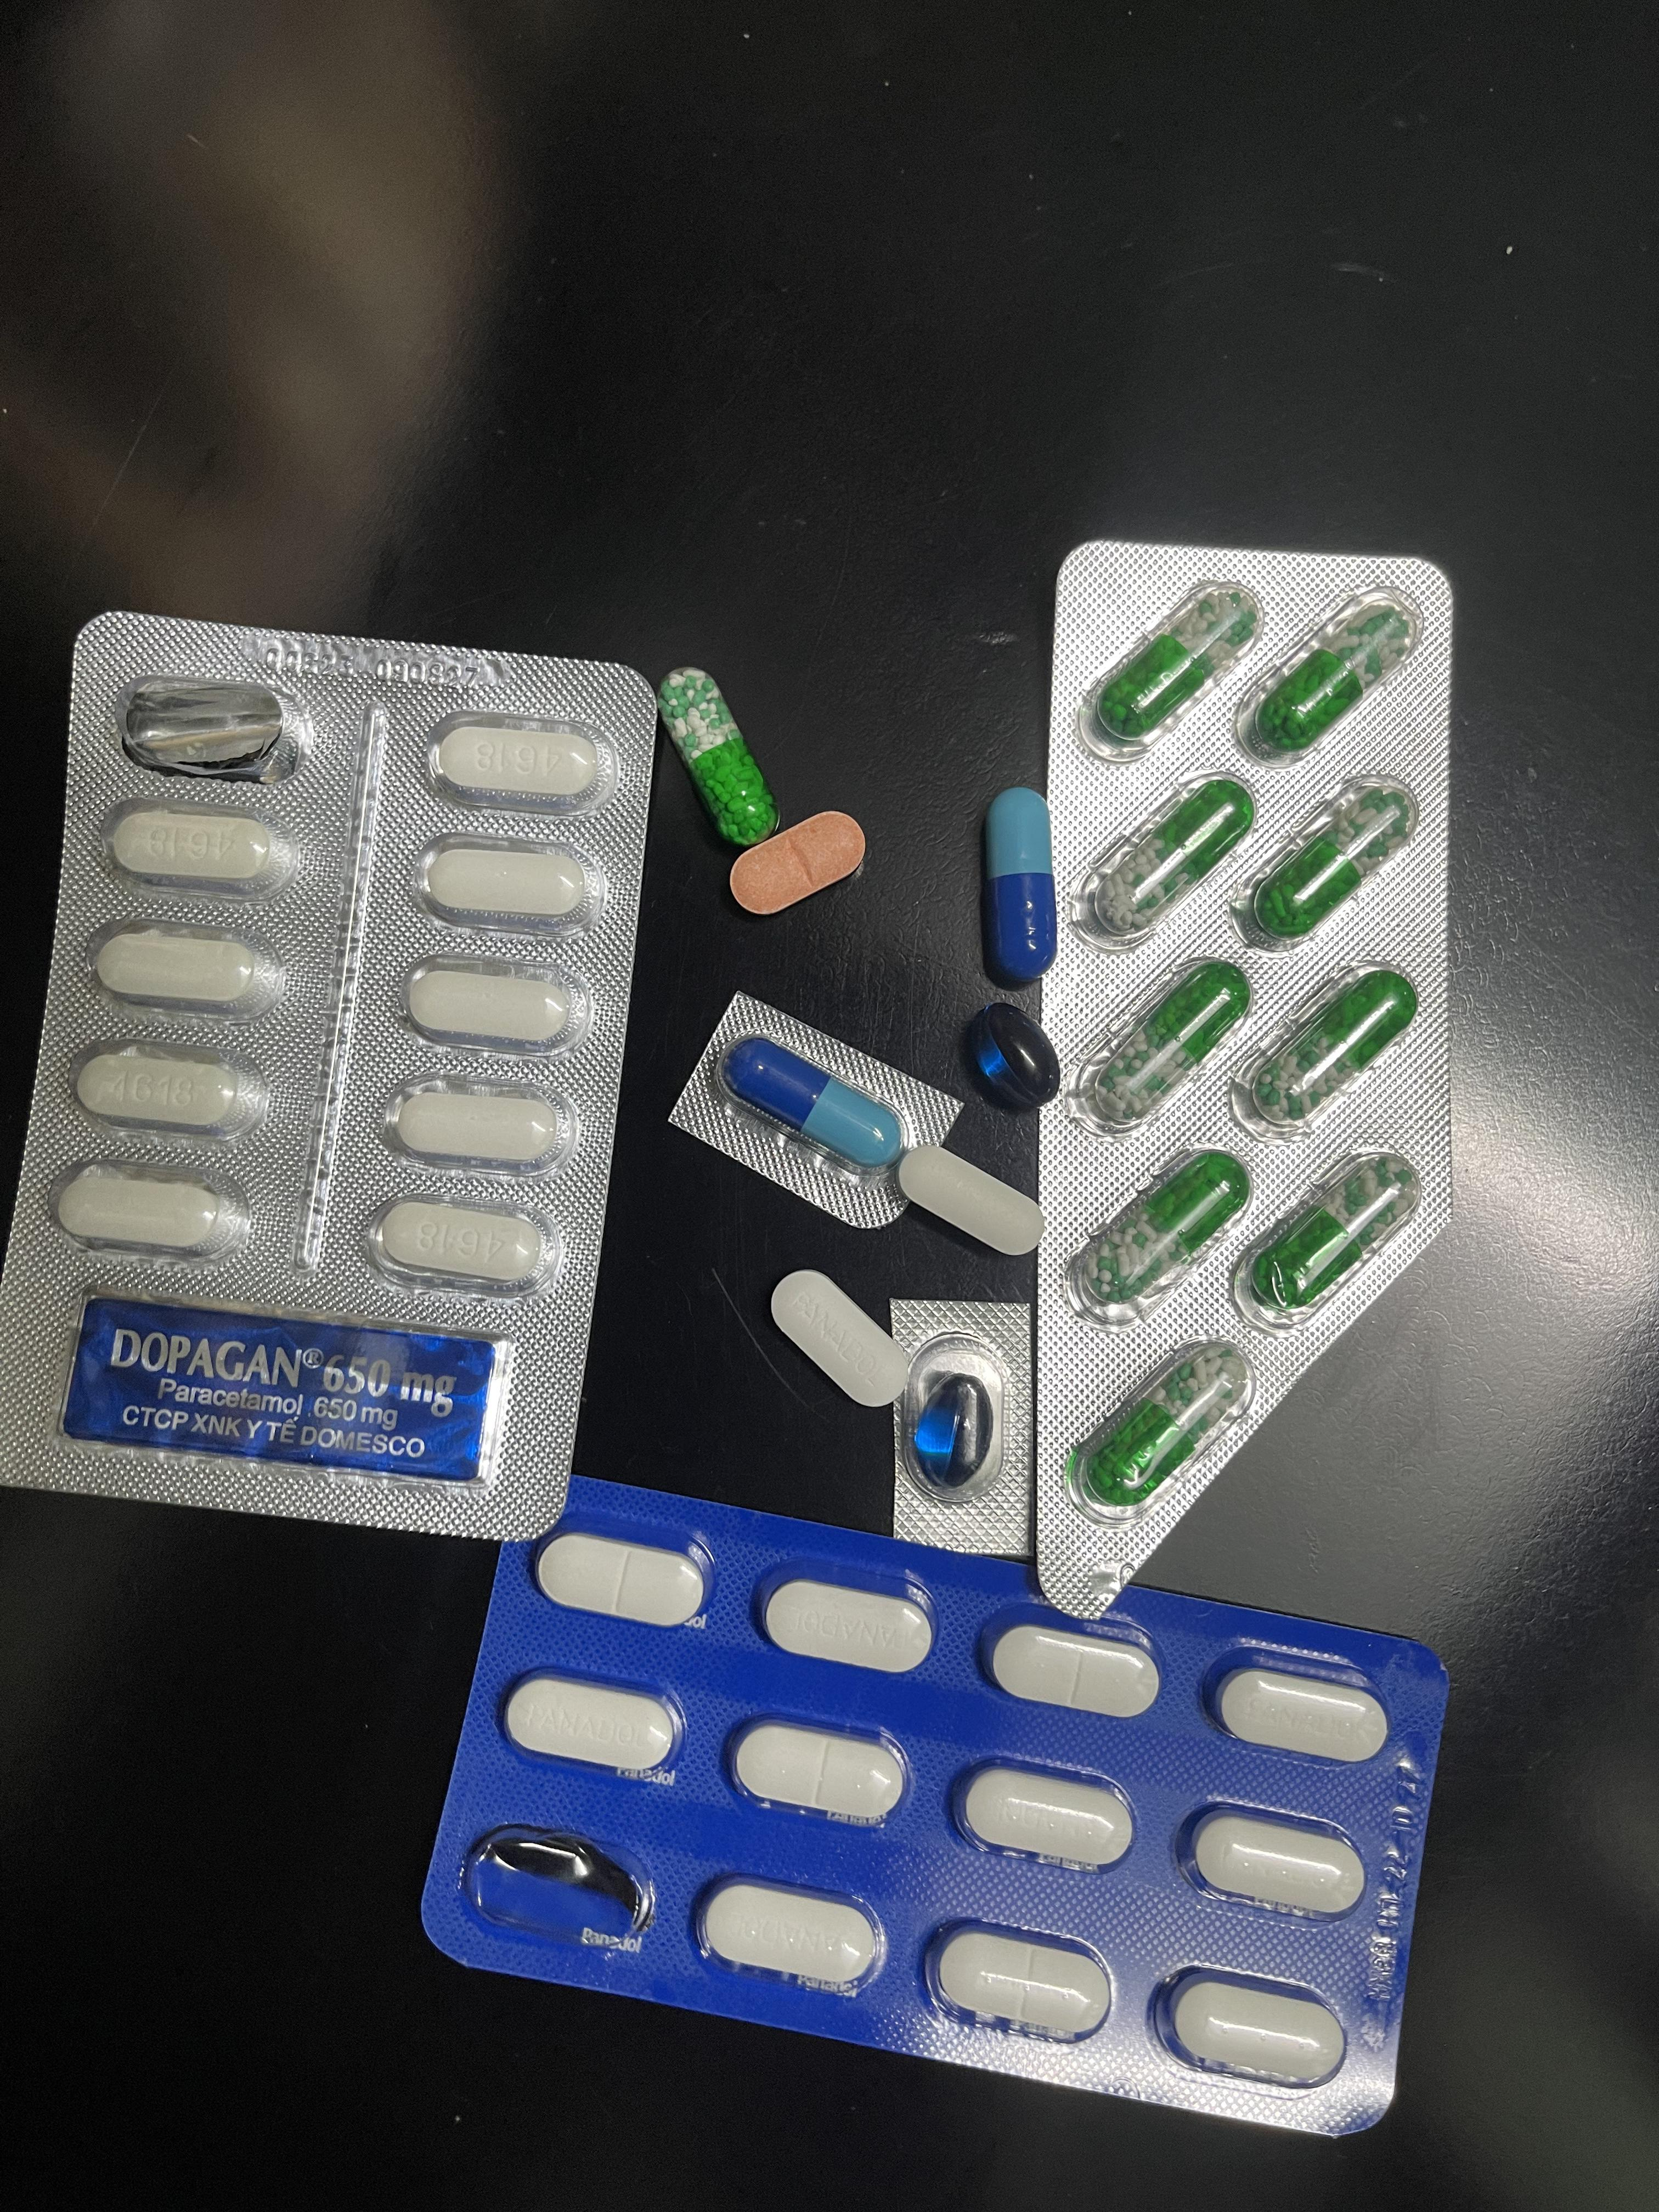Lincomyxin_500mg: (962, 1001, 1061, 1111), (913, 1372, 993, 1491)
Loratadine_10mg: (730, 812, 864, 918)
Paracetamol_350mg: (1154, 1966, 1354, 2092), (925, 1921, 1114, 2043), (1180, 1803, 1373, 1921), (498, 1669, 683, 1780), (1208, 1658, 1398, 1766), (727, 1716, 904, 1825), (953, 1761, 1133, 1867), (772, 1268, 910, 1406), (756, 1562, 931, 1670), (702, 1881, 875, 1986), (981, 1613, 1159, 1714), (533, 1529, 706, 1625)
Paracetamol_500mg: (51, 1160, 256, 1261), (103, 798, 305, 895), (70, 1040, 272, 1137), (87, 918, 289, 1015), (362, 1195, 559, 1294), (380, 1075, 573, 1174), (423, 712, 613, 813), (415, 833, 603, 928), (399, 954, 586, 1050), (896, 1144, 1046, 1254)
Paracetamol_650mg: (1232, 1148, 1422, 1327), (1236, 587, 1425, 765), (1232, 773, 1419, 949), (1084, 580, 1263, 761), (1066, 958, 1249, 1136), (1066, 1339, 1251, 1514), (1236, 965, 1422, 1137), (1070, 1150, 1253, 1324), (1075, 773, 1251, 949), (662, 667, 775, 848)
pill: (720, 1035, 903, 1176), (983, 791, 1060, 981)
